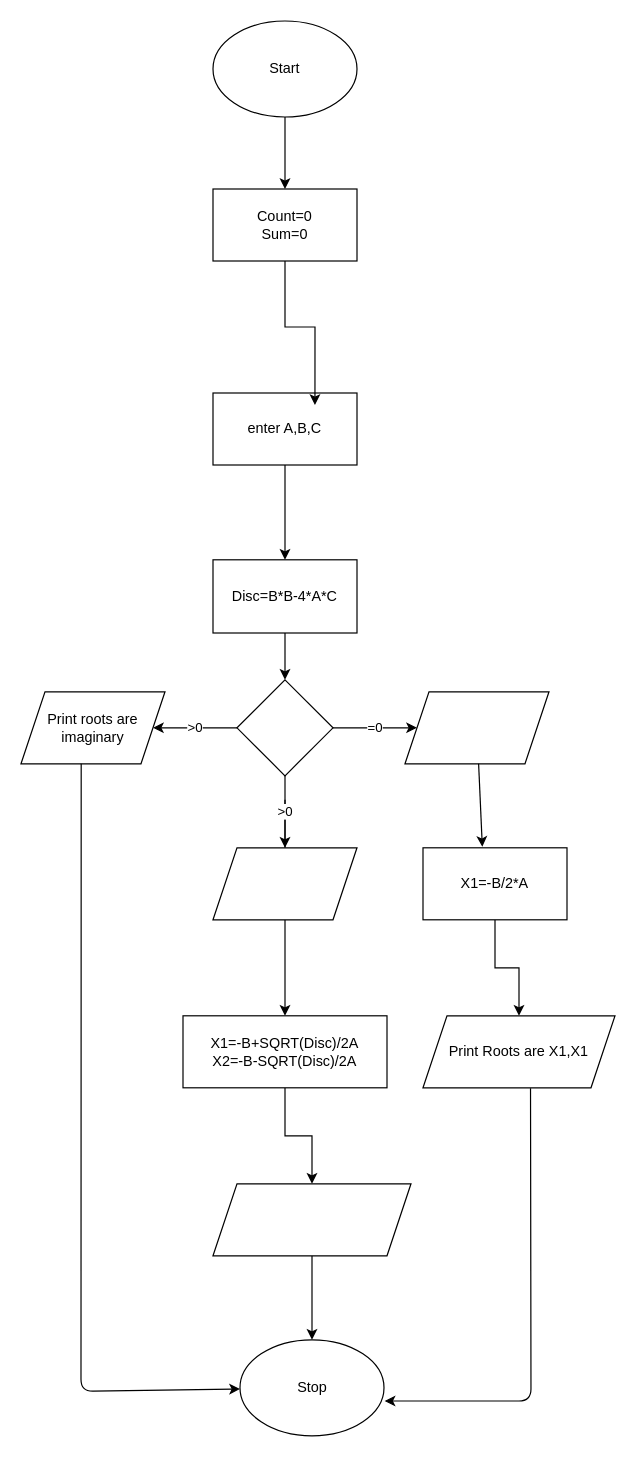
The diagram is 636 pixels wide and 1457 high, and some of its shapes have lost their labels. Each missing label, with the box of its shape:
is Disc ?: (236, 679, 333, 776)
Print roots are real: (212, 847, 357, 920)
Print roots are real and equal: (404, 691, 549, 764)
Print Roots are X1,X2: (212, 1183, 411, 1256)
